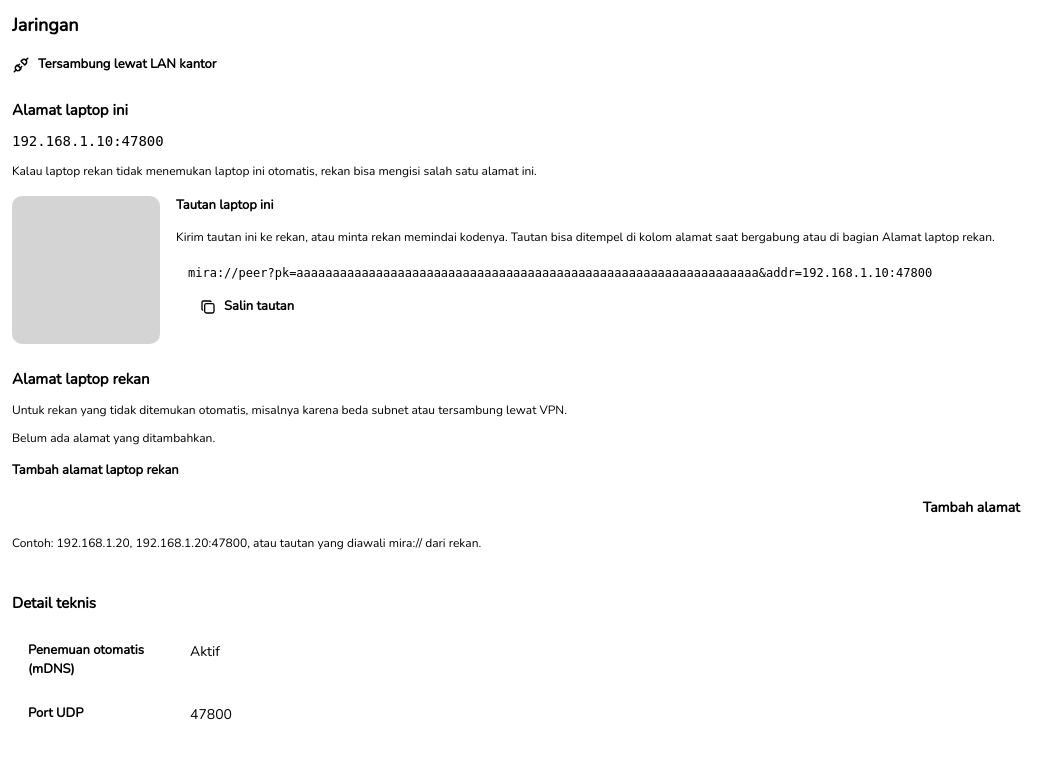
Test: Pengaturan > Jaringan › isian kosong tidak dikirim
The image size is (1048, 762).
Expected: the text "Tersambung lewat LAN kantor" is shown, [38,55,216,74]
Step 1. Click the button "Tambah alamat" → [971, 507], box [907,486,1036,528]
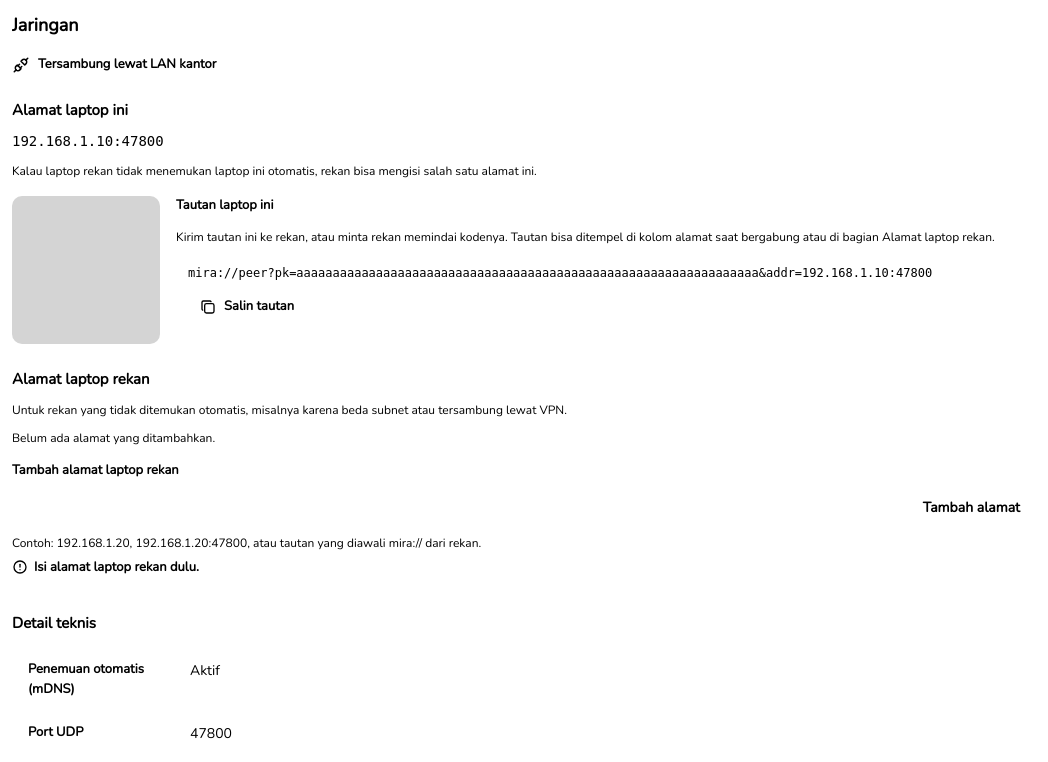
Expected: the text "Isi alamat laptop rekan dulu." is shown, [12,558,199,576]
